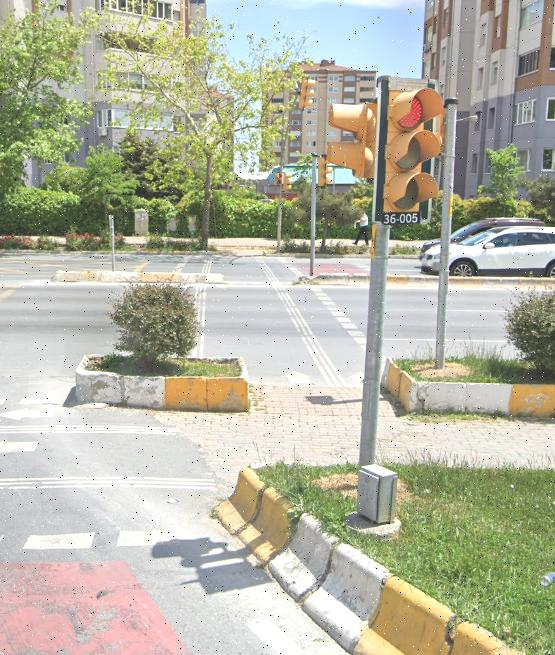redlight: (386, 75, 439, 222)
